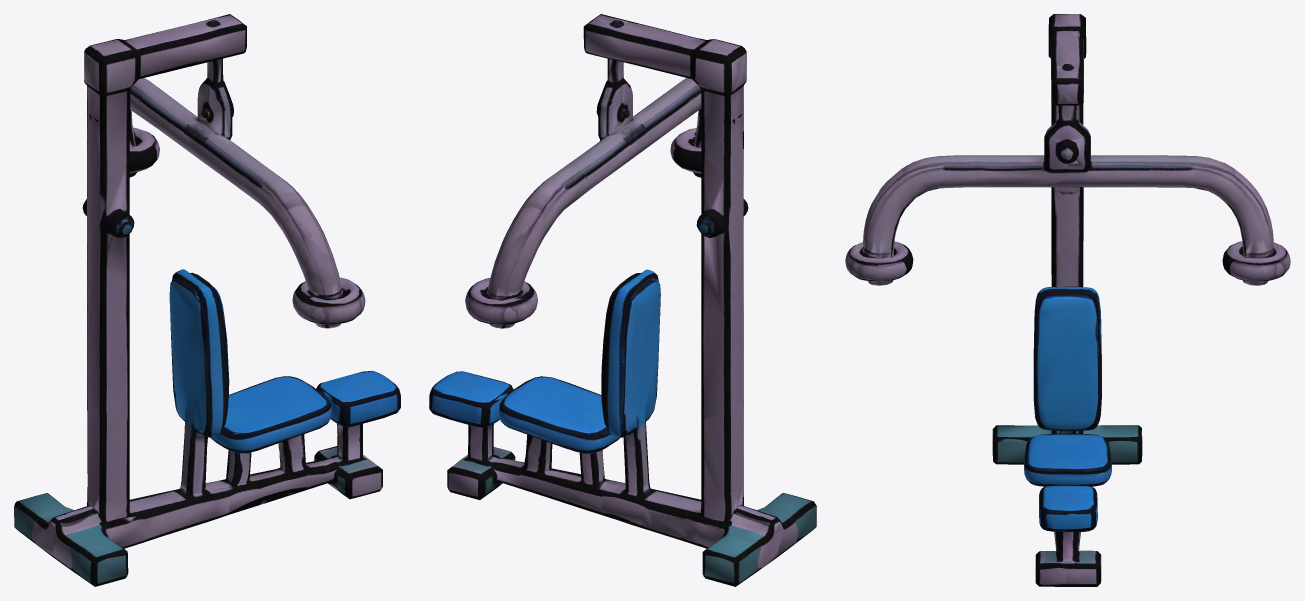
File: lat-pulldown.glb
3 views of the same model, side by side, from view 1: azimuth 30°, elevation 25°; view 2: azimuth 150°, elevation 25°; view 3: azimuth 270°, elevation 25° (orthographic). The views are drawn at different scales.
Visible parts, largest first — view 1: tripo_node_4707e371-2716-4d4d-b909-50bf96910658; view 2: tripo_node_4707e371-2716-4d4d-b909-50bf96910658; view 3: tripo_node_4707e371-2716-4d4d-b909-50bf96910658.
Part boxes in pixels (<box>): tripo_node_4707e371-2716-4d4d-b909-50bf96910658: <box>14,14,400,586</box>; tripo_node_4707e371-2716-4d4d-b909-50bf96910658: <box>429,14,816,586</box>; tripo_node_4707e371-2716-4d4d-b909-50bf96910658: <box>845,14,1290,586</box>.
Size of the model in its own units: 0.7102 by 0.9999 by 0.8794.
1 material, 1 textured.
